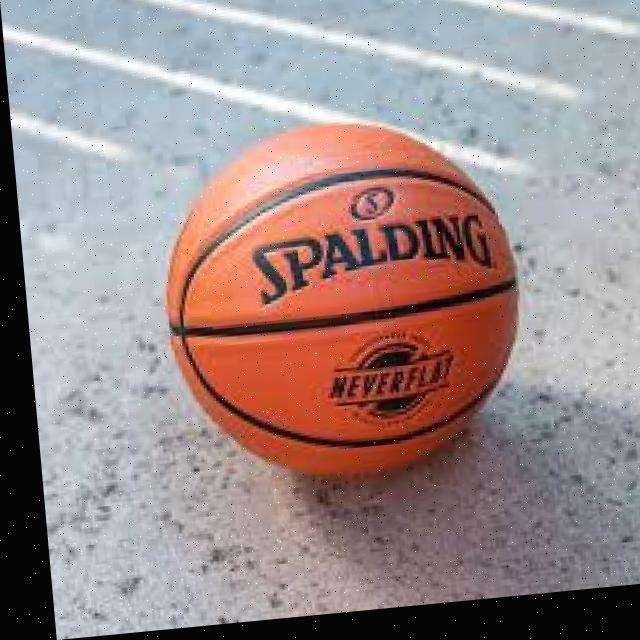Basketball: (153, 106, 533, 492)
